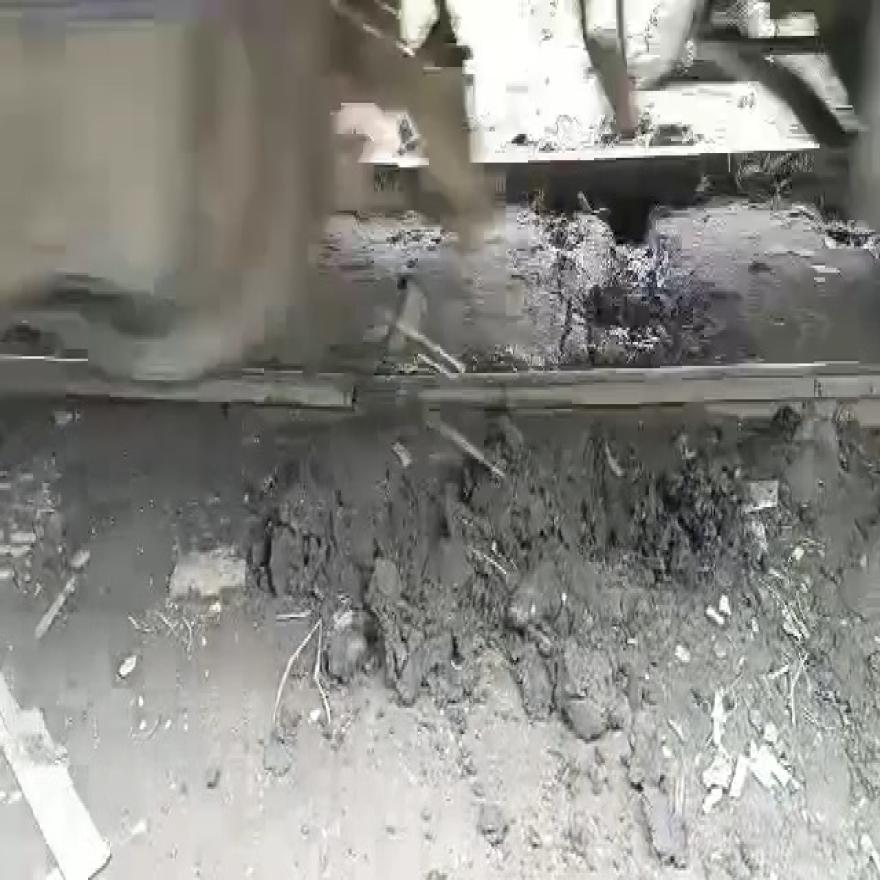railway-gap: (299, 310, 406, 483)
